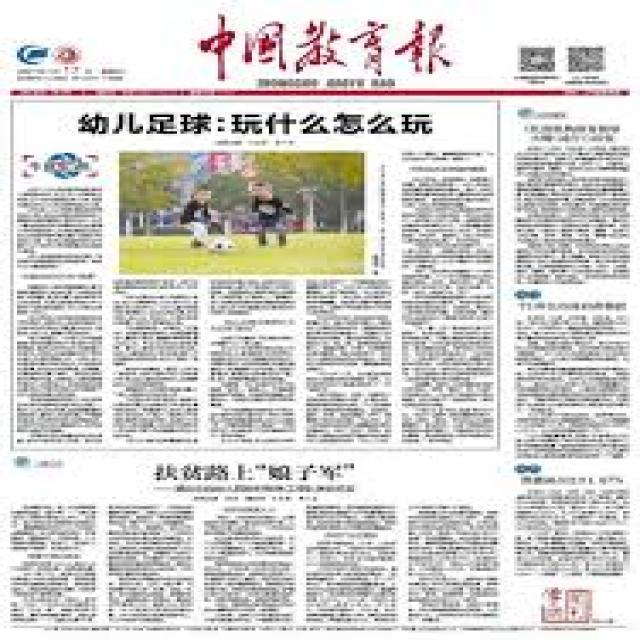paper: (14, 17, 638, 627)
